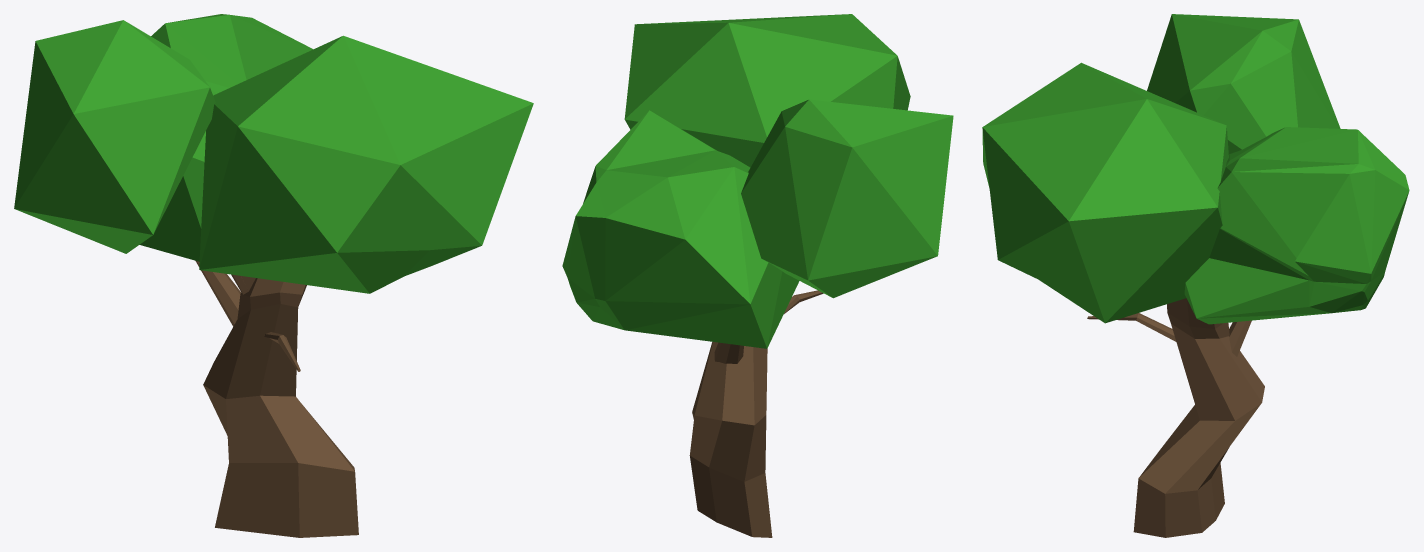
File: arv2.fbx
3 views of the same model, side by side, from view 1: azimuth 30°, elevation 25°; view 2: azimuth 150°, elevation 25°; view 3: azimuth 270°, elevation 25° (orthographic). The views are drawn at different scales.
Visible parts, largest first — view 1: Icosphere; view 2: Icosphere; view 3: Icosphere.
Boxes of the visible parts, bbox=[...] form: Icosphere: bbox=[14, 14, 533, 537]; Icosphere: bbox=[562, 14, 953, 537]; Icosphere: bbox=[982, 14, 1409, 537].
Bounding box in the file's own units: 1156 × 1321 × 1167.
